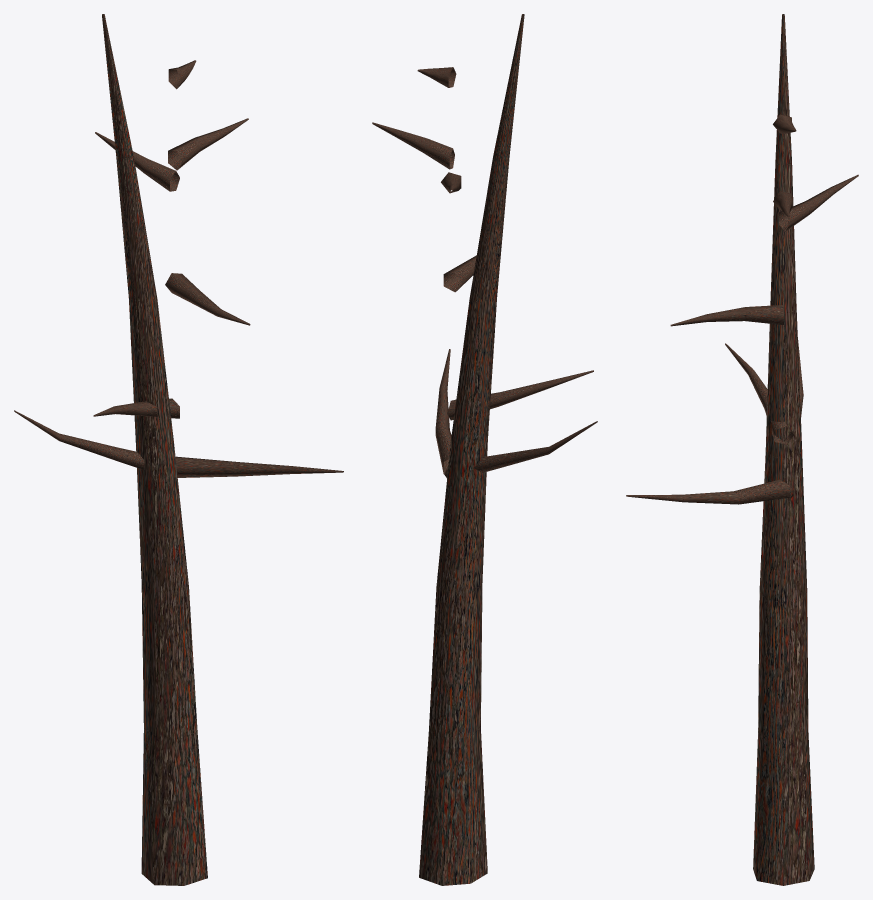
File: dead_2.glb
The picture shows the model from 3 angles, left to right: view 1: azimuth 30°, elevation 25°; view 2: azimuth 150°, elevation 25°; view 3: azimuth 270°, elevation 25°; orthographic projection. The views are drawn at different scales.
Visible parts, largest first — view 1: dead_2; view 2: dead_2; view 3: dead_2.
Boxes of the visible parts, box(x1,y1,x2,y2) form: dead_2: box(14, 14, 343, 885); dead_2: box(372, 14, 597, 885); dead_2: box(626, 14, 858, 885).
Bounding box in the file's own units: 1.86 × 6.5 × 1.66.
Materials: 1 (1 with a texture image).
